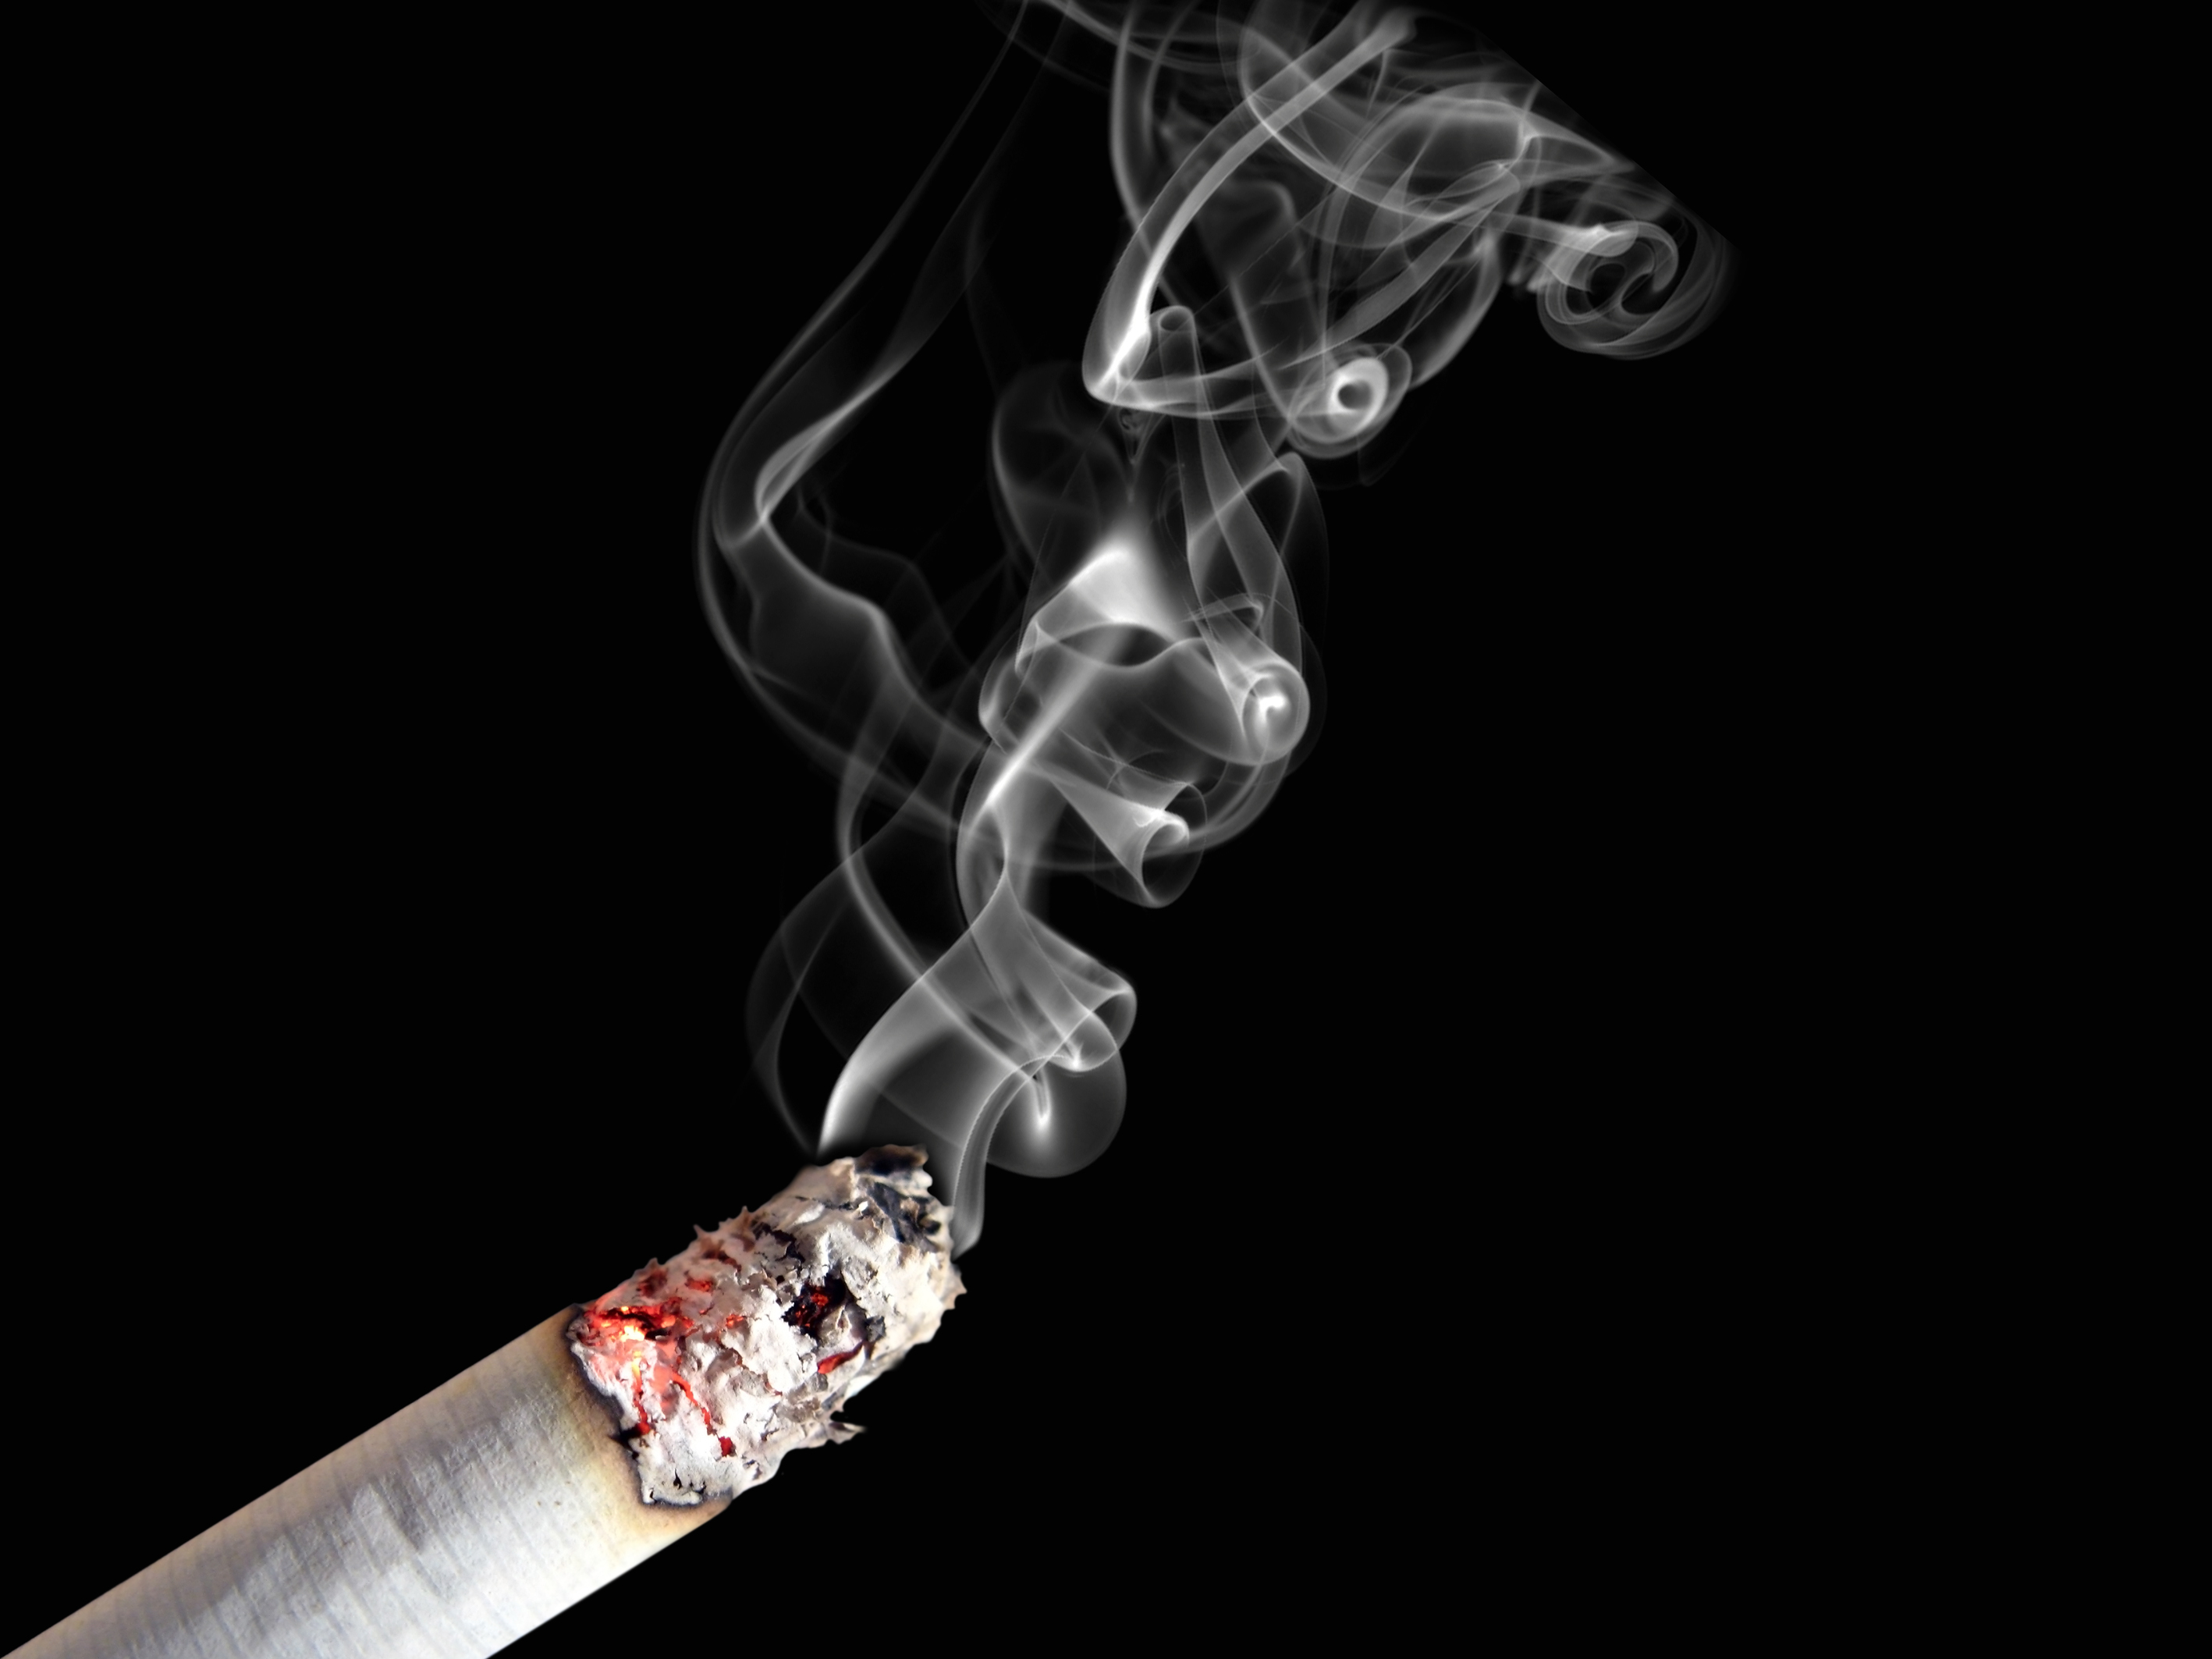cigarette: (0, 1134, 1008, 1656)
